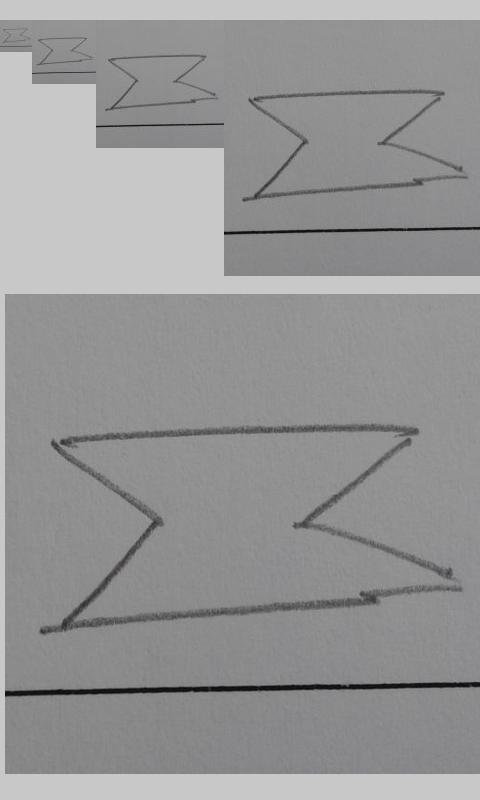edit_text: (47, 420, 459, 634), (244, 89, 462, 199), (106, 54, 217, 111), (37, 37, 94, 65), (2, 27, 31, 44)
